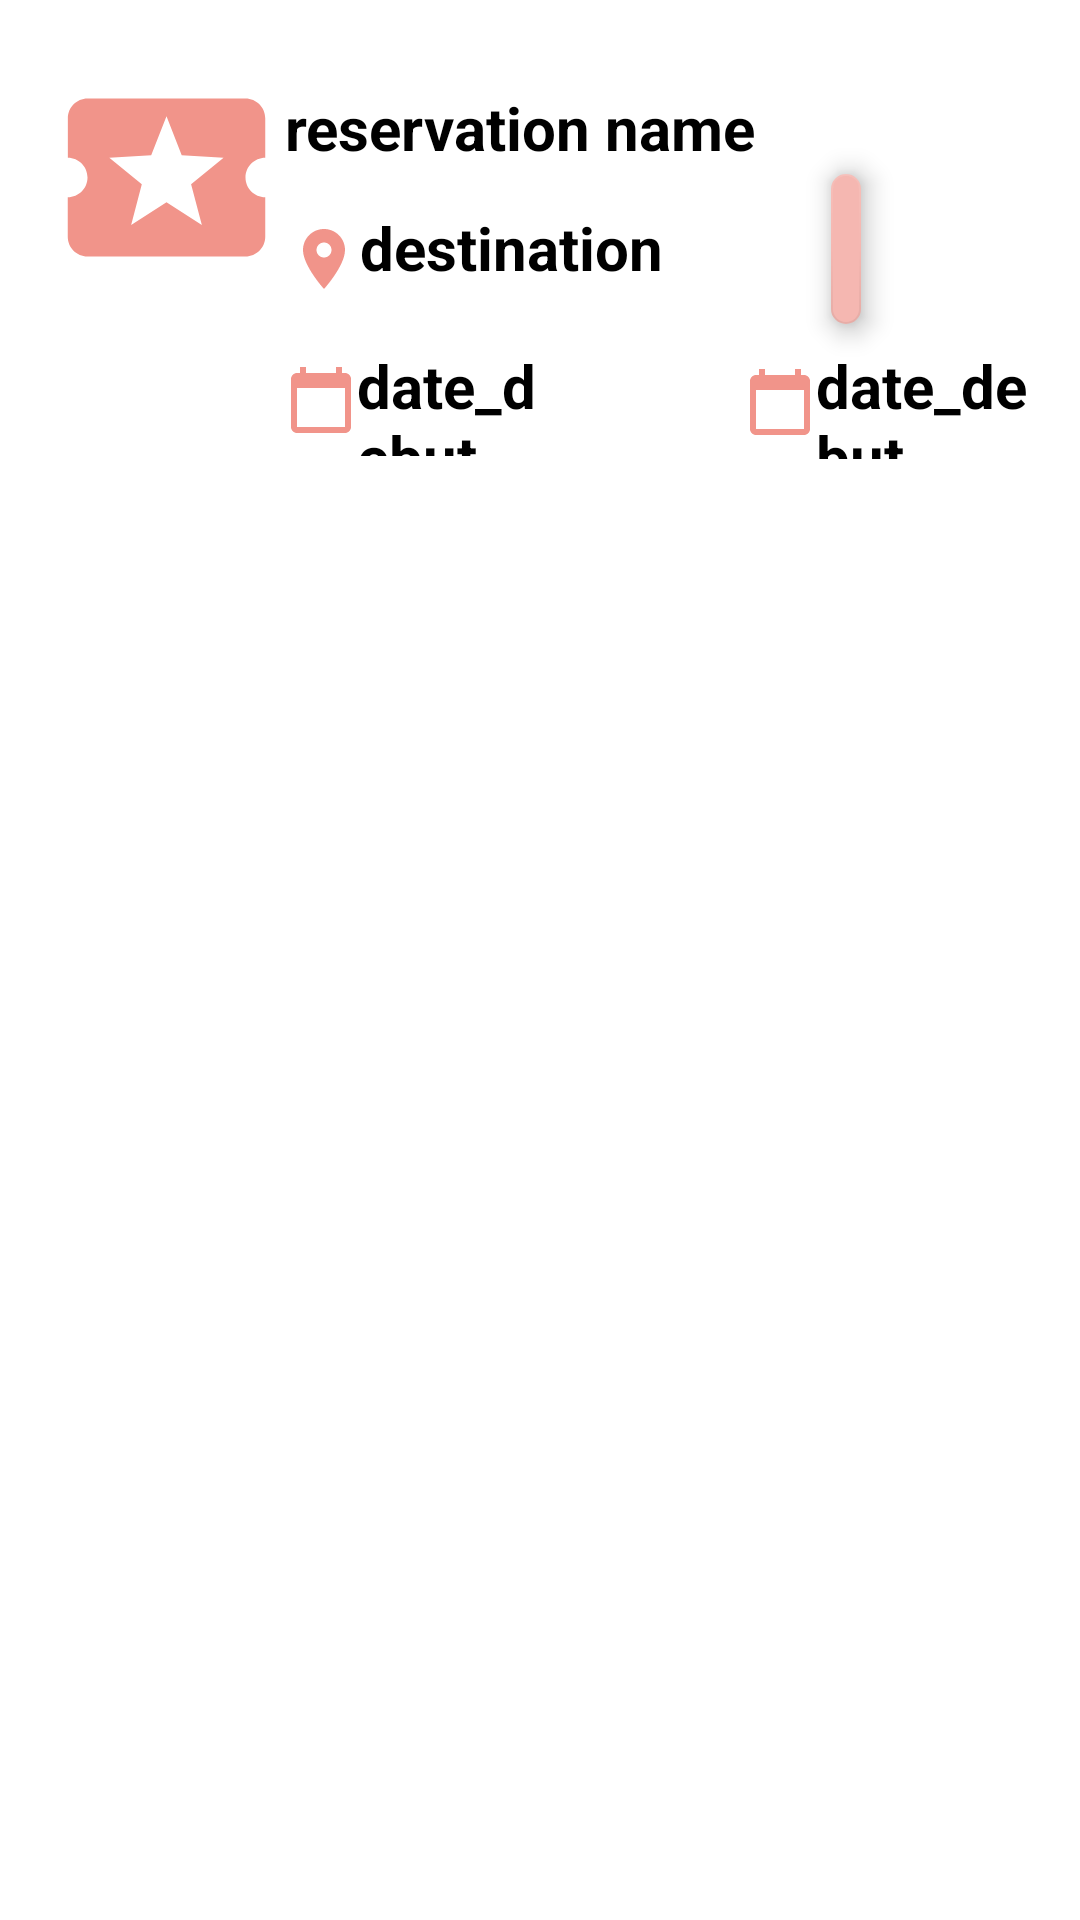

Icon click points for this 1080*1920 phone screenshot, format (x,y):
local activity: (166,177)
